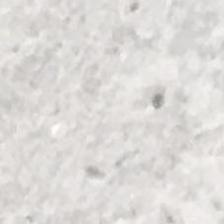Non_Crack: (35, 39, 218, 220)
